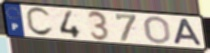3: (86, 10, 110, 43)
4: (58, 9, 82, 39)
7: (114, 13, 138, 42)
A: (173, 18, 204, 47)
C: (24, 6, 55, 38)
O: (143, 15, 173, 45)
